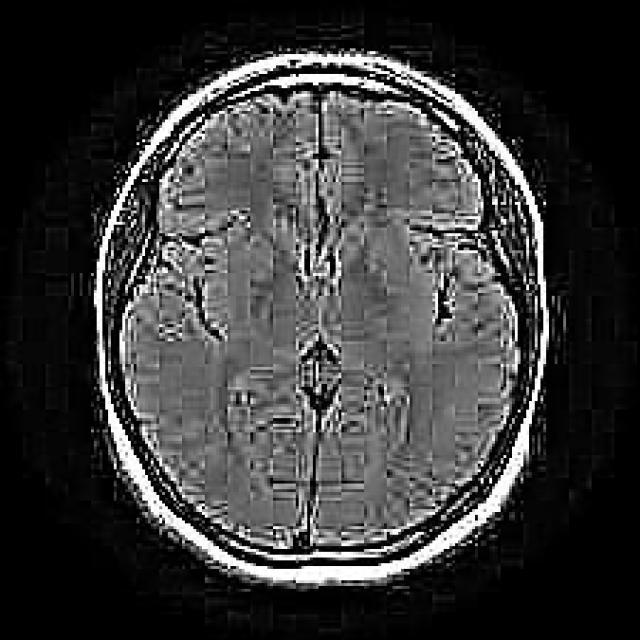notumor: (94, 51, 552, 592)
